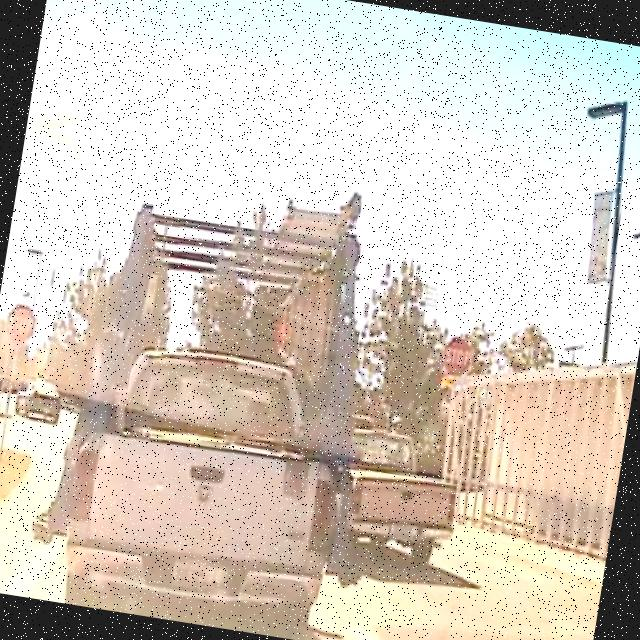Stop: (4, 302, 39, 348), (439, 336, 476, 379)
